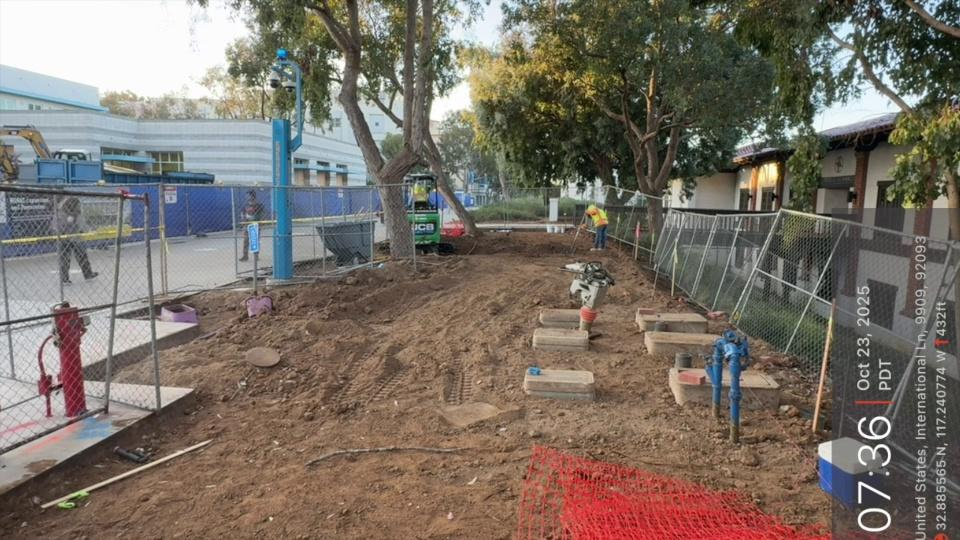Exacavator: (387, 160, 452, 264)
